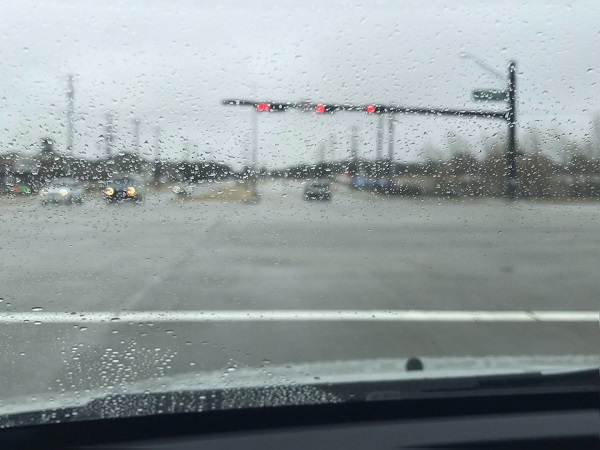car: (38, 178, 85, 202), (105, 174, 144, 201), (304, 177, 330, 197)
traffic light: (361, 102, 377, 114), (255, 99, 268, 112), (311, 105, 326, 112)
